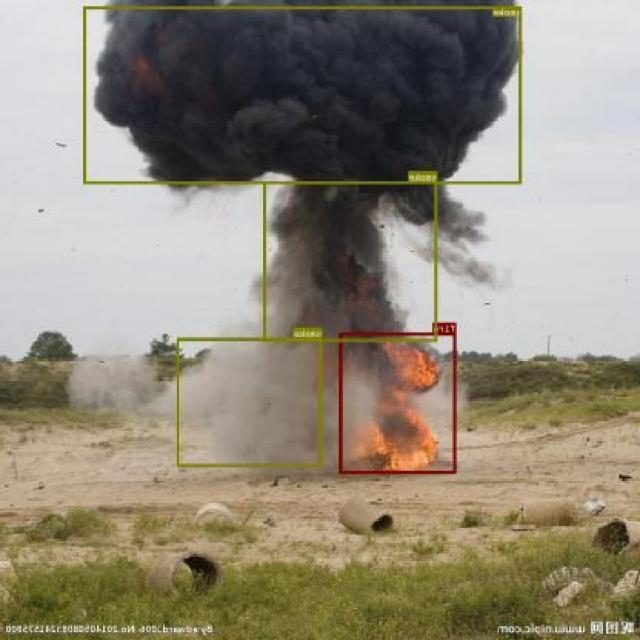Fire: (340, 332, 457, 474)
Smoke: (84, 5, 522, 184), (264, 181, 438, 341), (178, 337, 324, 466), (74, 358, 160, 420)
